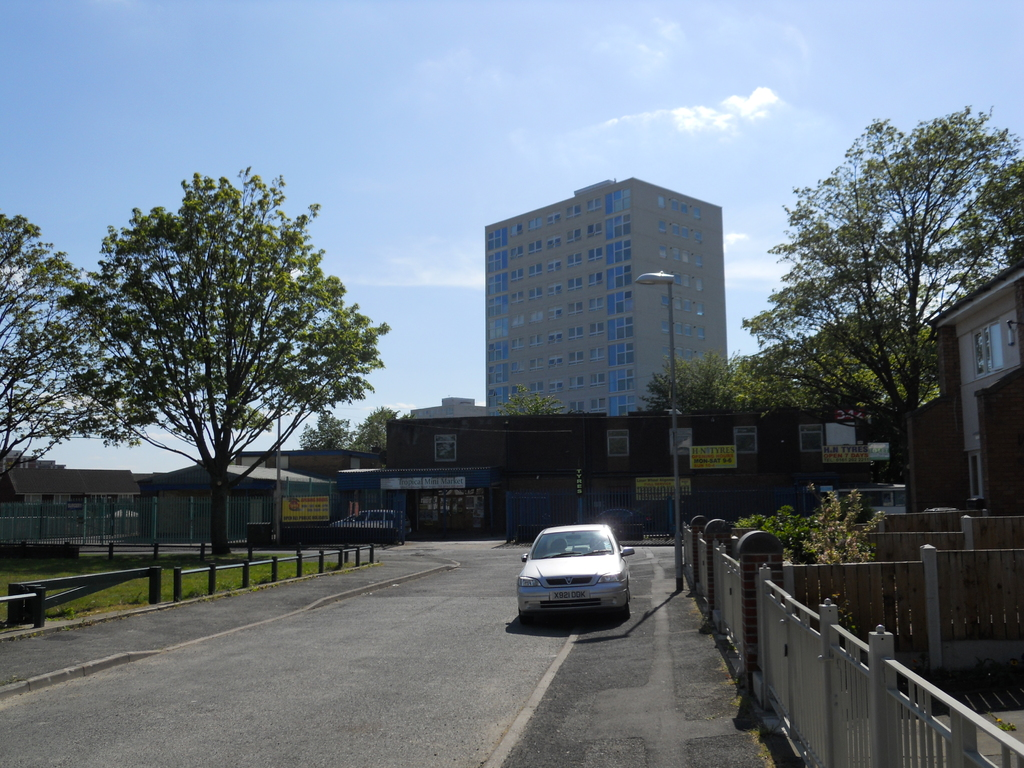Car: (506, 520, 633, 628)
